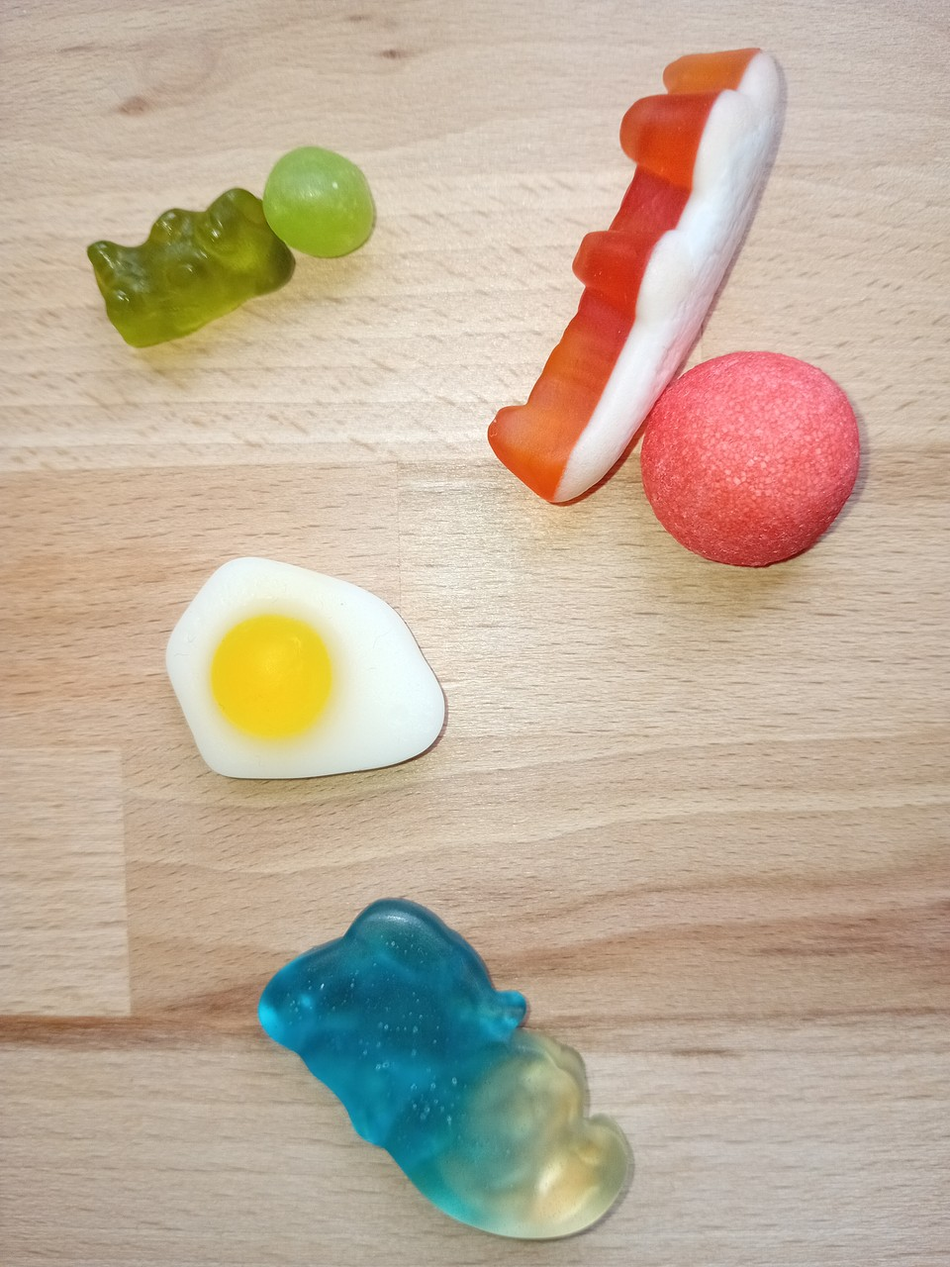crocodile_orange: (482, 41, 784, 509)
dragibus_vert: (261, 140, 376, 257)
oeuf_oeuf: (157, 549, 452, 786)
ourson_vert: (83, 185, 299, 351)
schtroumpf_bleu-blanc: (250, 894, 642, 1242)
tagada_fraise: (639, 347, 864, 571)
